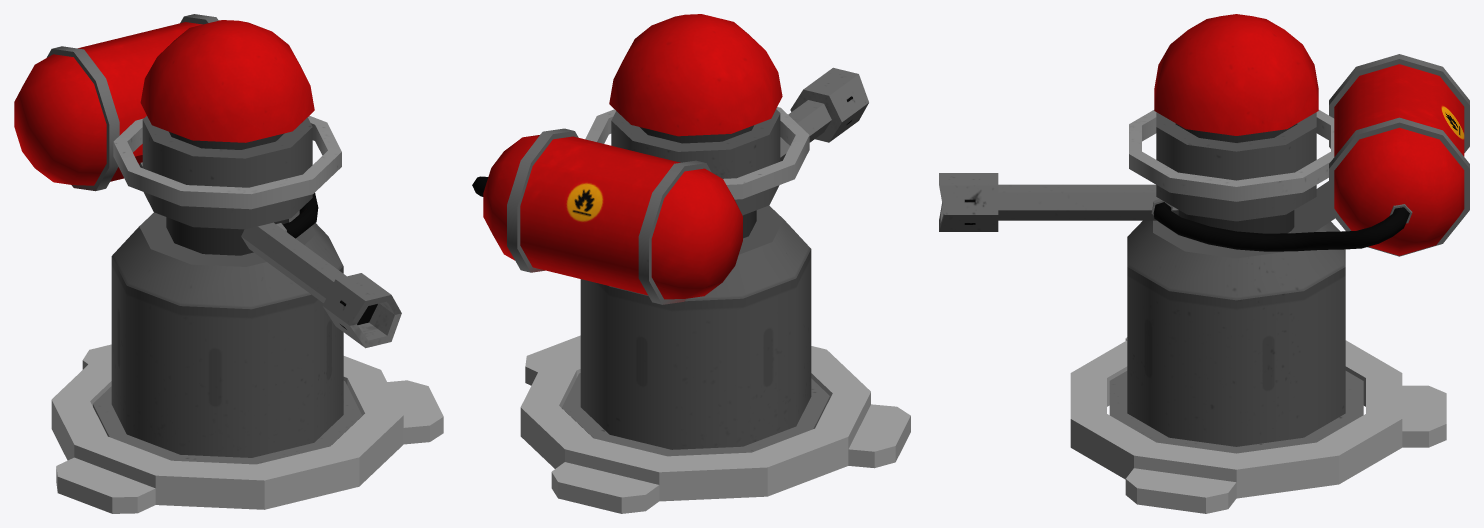
File: Sci-Fi Flamethrower.fbx
3 renders of one model, left to right at view 1: azimuth 30°, elevation 25°; view 2: azimuth 150°, elevation 25°; view 3: azimuth 270°, elevation 25°, orthographic.
Visible parts, largest first — view 1: pBody, pBase; view 2: pBody, pBase; view 3: pBody, pBase.
Part boxes in pixels (x1=…): pBody: x1=14, y1=14, x2=401, y2=464; pBase: x1=51, y1=344, x2=443, y2=513; pBody: x1=472, y1=14, x2=868, y2=456; pBase: x1=520, y1=335, x2=910, y2=513; pBody: x1=939, y1=14, x2=1469, y2=453; pBase: x1=1070, y1=337, x2=1446, y2=513.
Size of the model in its own units: 14.27 by 15.05 by 17.95.
2 materials, 1 textured.
